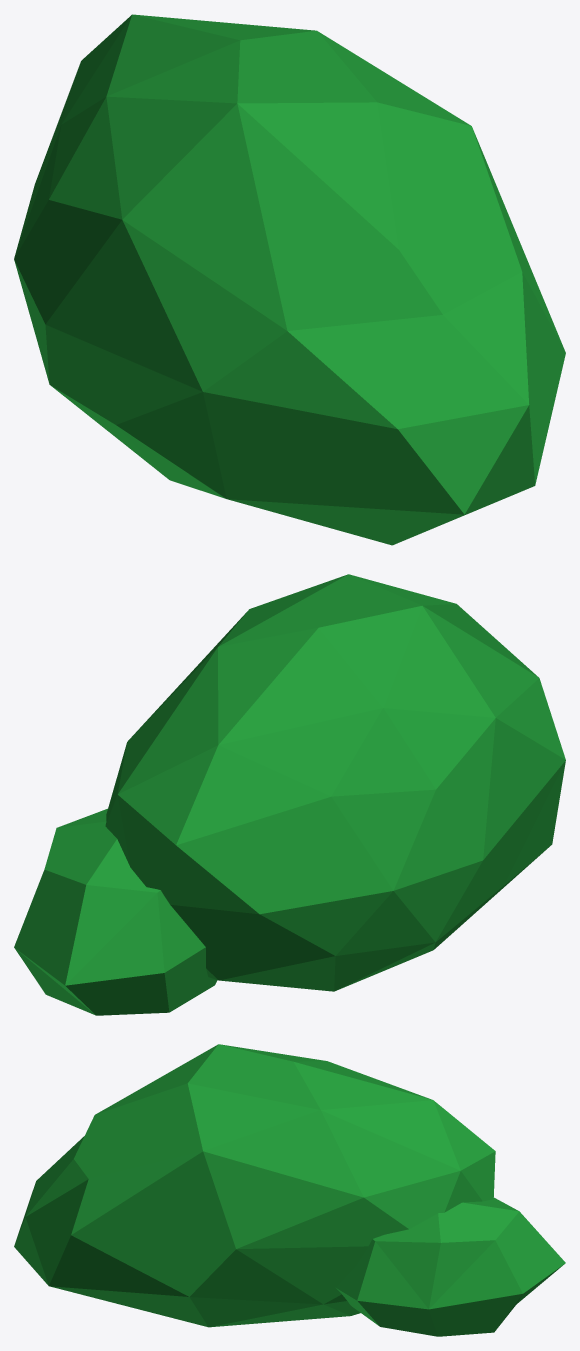
The model's file is BushC.fbx.
3 views of the same model, one above another, from view 1: azimuth 30°, elevation 25°; view 2: azimuth 150°, elevation 25°; view 3: azimuth 270°, elevation 25° (orthographic). The views are drawn at different scales.
Parts seen in each view (by area): view 1: Icosphere.001; view 2: Icosphere.001; view 3: Icosphere.001.
Part boxes in pixels (x1,y1,x2,y2): Icosphere.001: [14, 14, 565, 545]; Icosphere.001: [14, 574, 565, 1015]; Icosphere.001: [14, 1044, 565, 1336].
Bounding box in the file's own units: 212 × 196 × 395.
